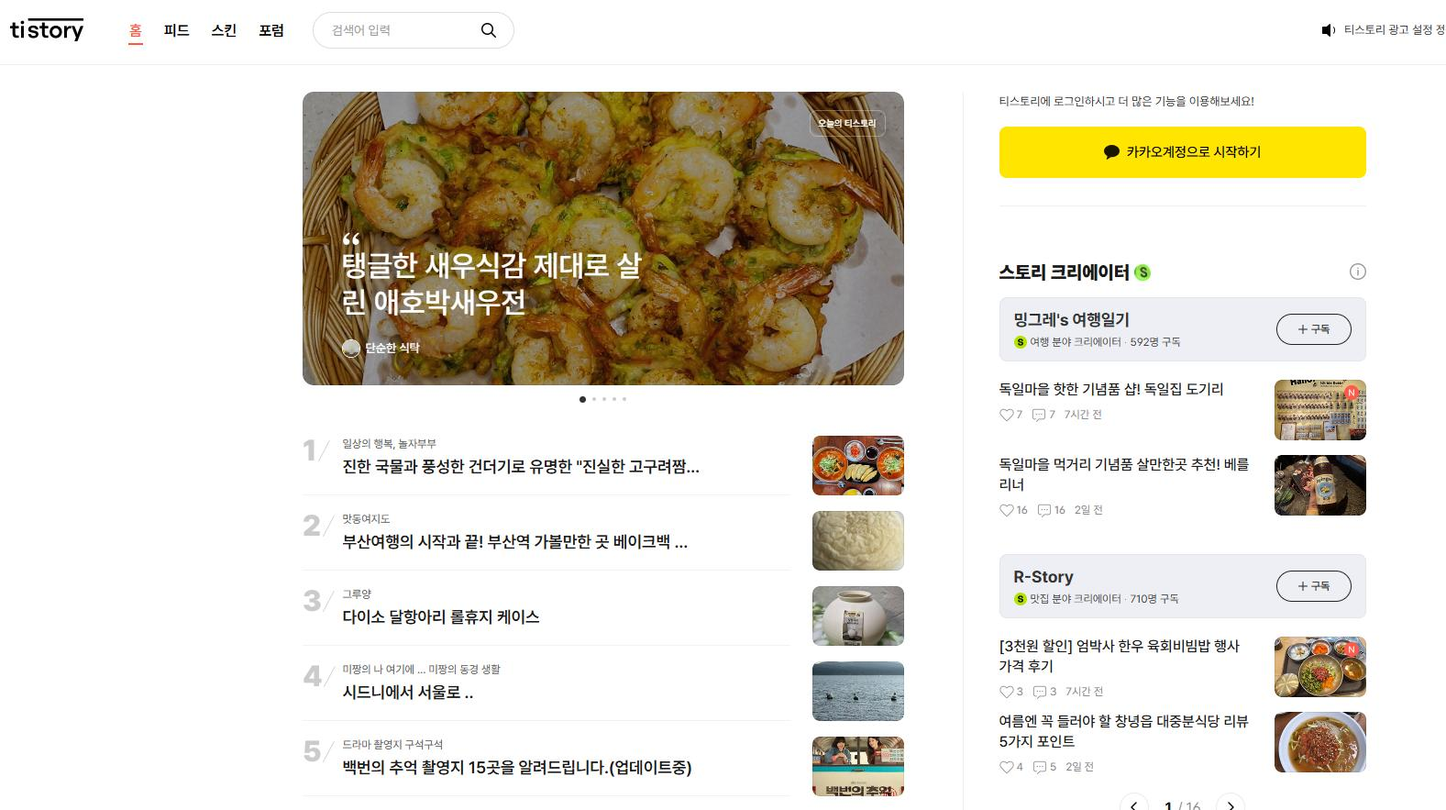button: (295, 583, 909, 649), (294, 506, 909, 570), (297, 659, 905, 720), (300, 434, 905, 495), (291, 737, 905, 795), (998, 125, 1370, 179), (1278, 566, 1355, 603), (1277, 313, 1355, 344), (254, 18, 287, 41), (126, 20, 152, 49), (210, 20, 238, 43), (165, 24, 197, 43)
input_field: (313, 7, 513, 51)
